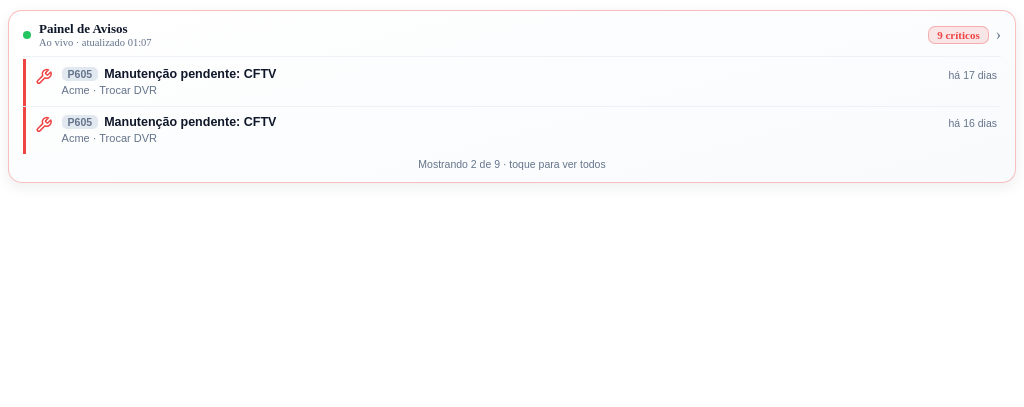
Test: recolhido mostra só 2 manchetes (as mais importantes primeiro); tocar abre a lista completa
Click the button "Mostrando 2 de 9 · toque para ver todos". click: (512, 163)
box: [23,156,1001,170]
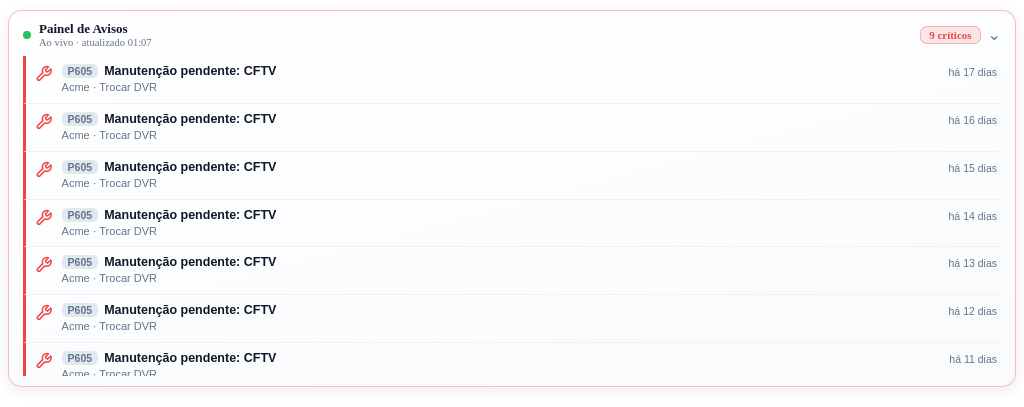
Now the element with test id "avisos-lista" is shown
Now the element with test id "avisos-manchetes" is gone
